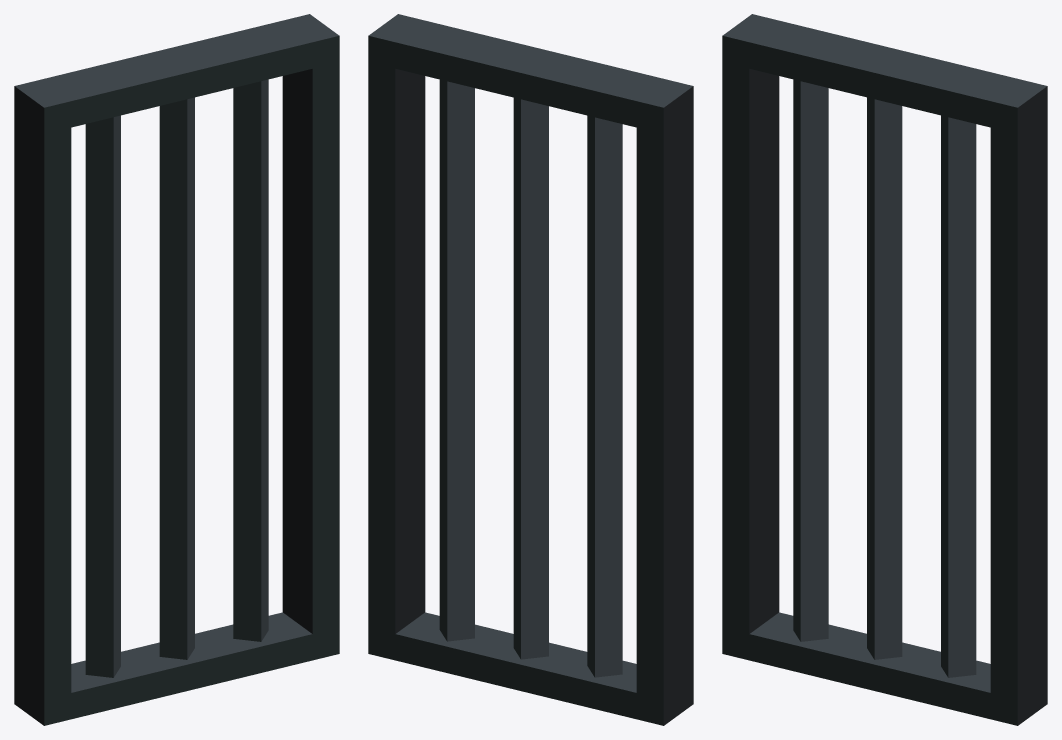
Rendered from jail_bars.fbx.
3 views of the same model, side by side, from view 1: azimuth 30°, elevation 25°; view 2: azimuth 150°, elevation 25°; view 3: azimuth 330°, elevation 25° (orthographic).
Visible parts, largest first — view 1: jail_bars; view 2: jail_bars; view 3: jail_bars.
Part boxes in pixels (<box>): jail_bars: <box>14,14,339,725</box>; jail_bars: <box>368,14,693,725</box>; jail_bars: <box>722,14,1047,725</box>.
Bounding box in the file's own units: 100 × 200 × 17.42.
